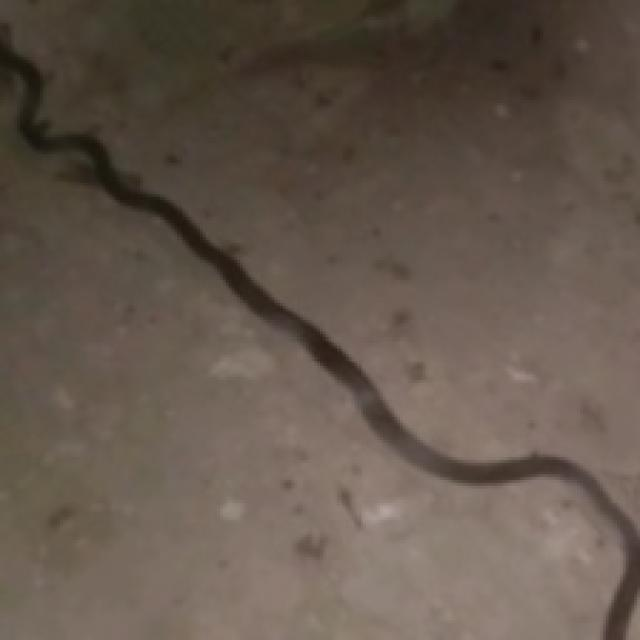king cobra: (0, 74, 620, 637), (0, 0, 637, 523)
